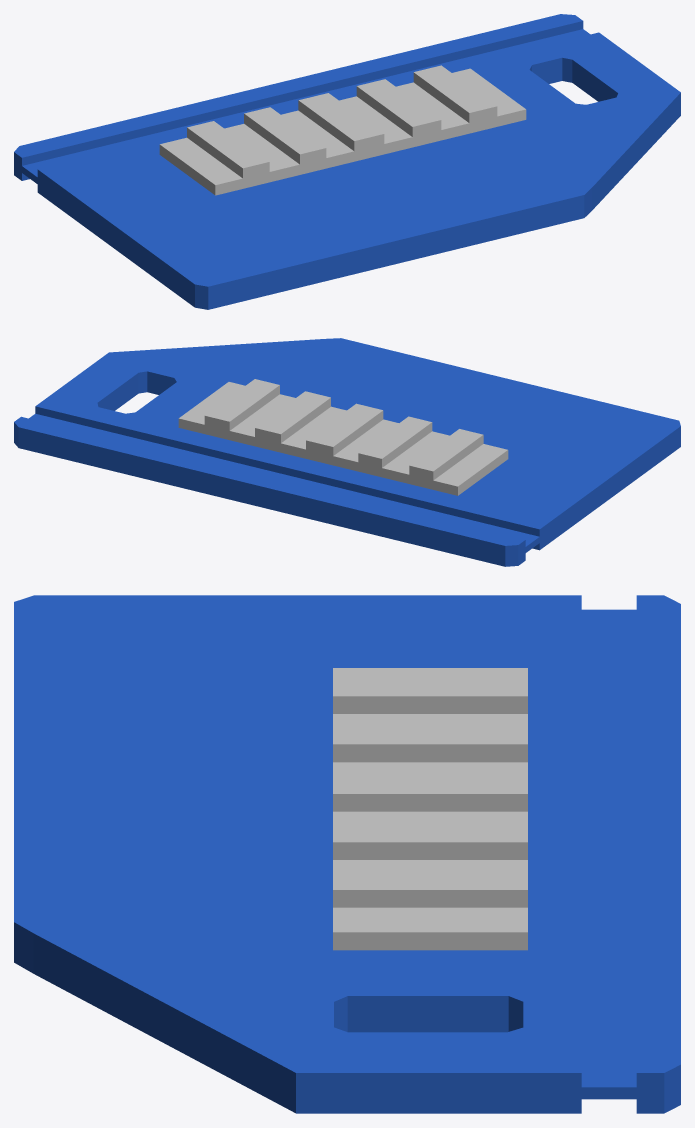
Rendered from KeyCard.fbx.
3 views of the same model, one above another, from view 1: azimuth 30°, elevation 25°; view 2: azimuth 150°, elevation 25°; view 3: azimuth 270°, elevation 25° (orthographic). The views are drawn at different scales.
Visible parts, largest first — view 1: Cube; view 2: Cube; view 3: Cube.
Boxes of the visible parts, x1=… form: Cube: x1=14, y1=14, x2=680, y2=309; Cube: x1=14, y1=338, x2=680, y2=566; Cube: x1=14, y1=595, x2=680, y2=1113.
Bounding box in the file's own units: 198 × 14.76 × 117.
